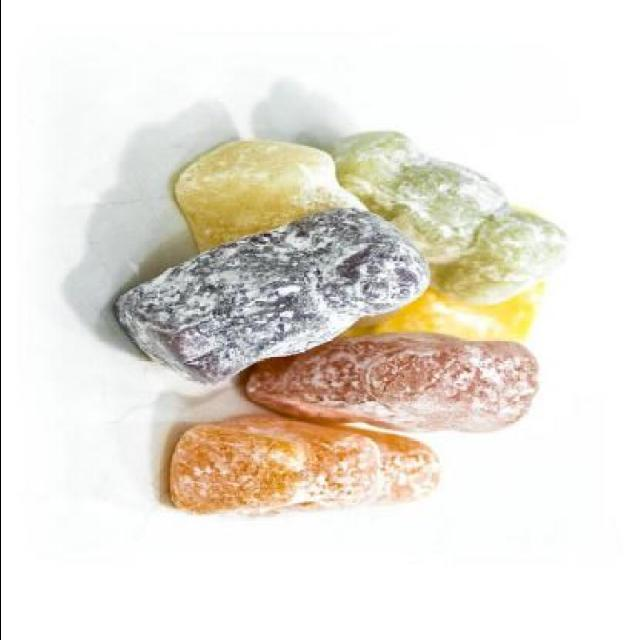Candy: (138, 74, 592, 568)
